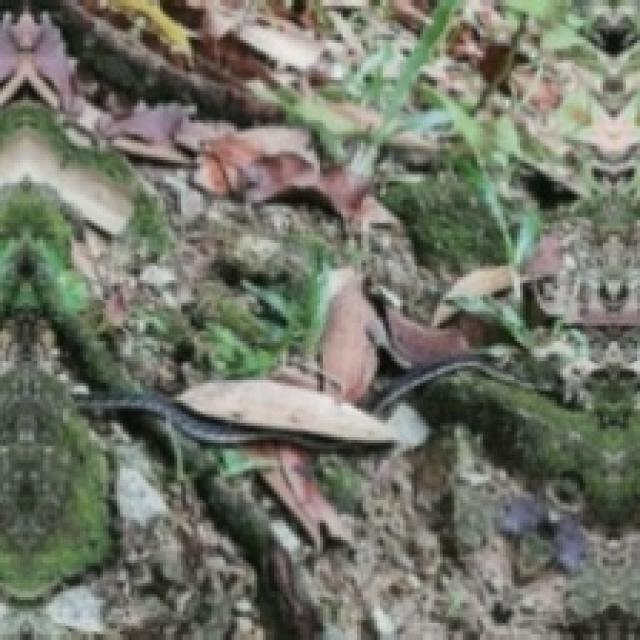king cobra: (80, 394, 400, 451), (375, 358, 515, 411)
